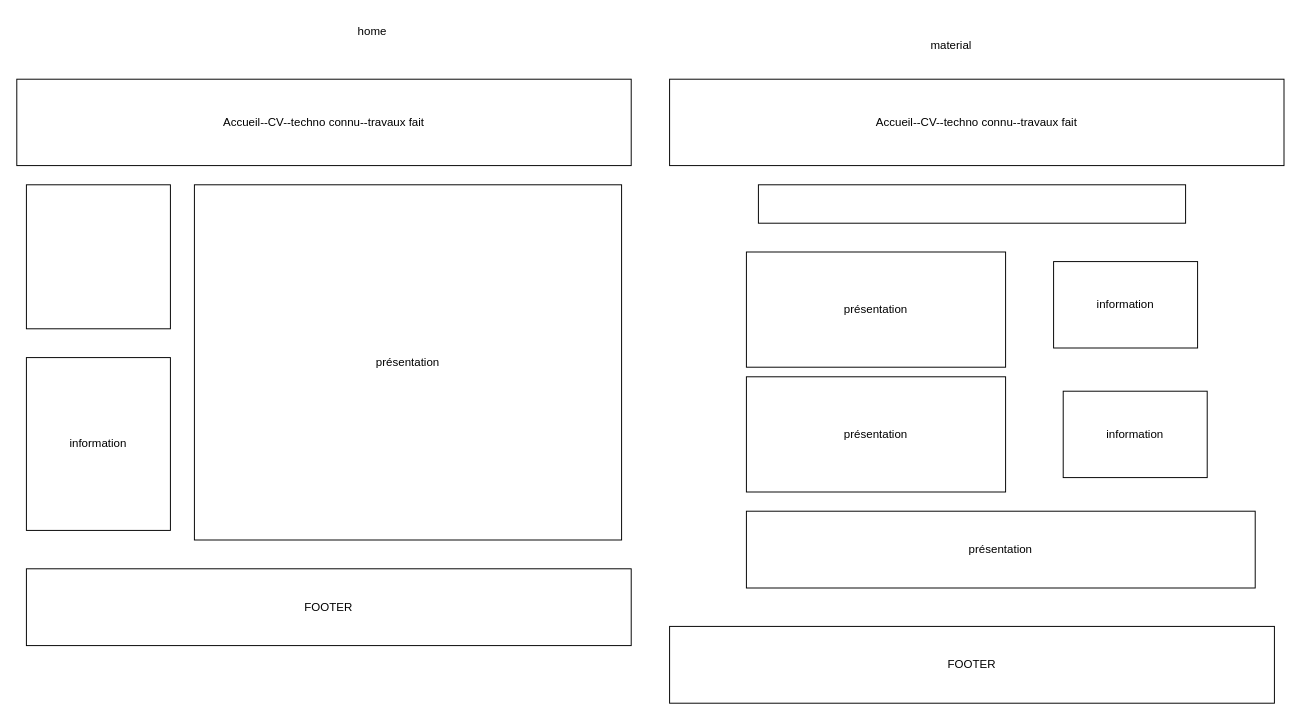
The diagram is 1301 pixels wide and 720 high, and some of its shapes have lost their labels. Each missing label, with the centre of its shape:
"photo" goes at point 97,256.
"titre" goes at point 971,203.
